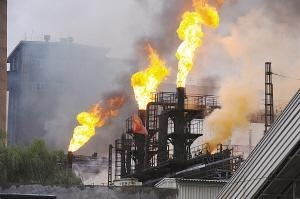fire: (174, 0, 220, 88), (64, 91, 125, 151), (129, 43, 168, 108)
